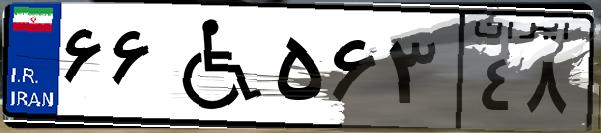3: (385, 28, 445, 110)
4: (475, 38, 525, 113)
5: (270, 28, 330, 110)
6: (330, 28, 385, 110), (57, 26, 110, 100), (110, 28, 158, 98)
8: (525, 38, 570, 115)
ژ (معلولین و جانبازان): (158, 12, 270, 120)
